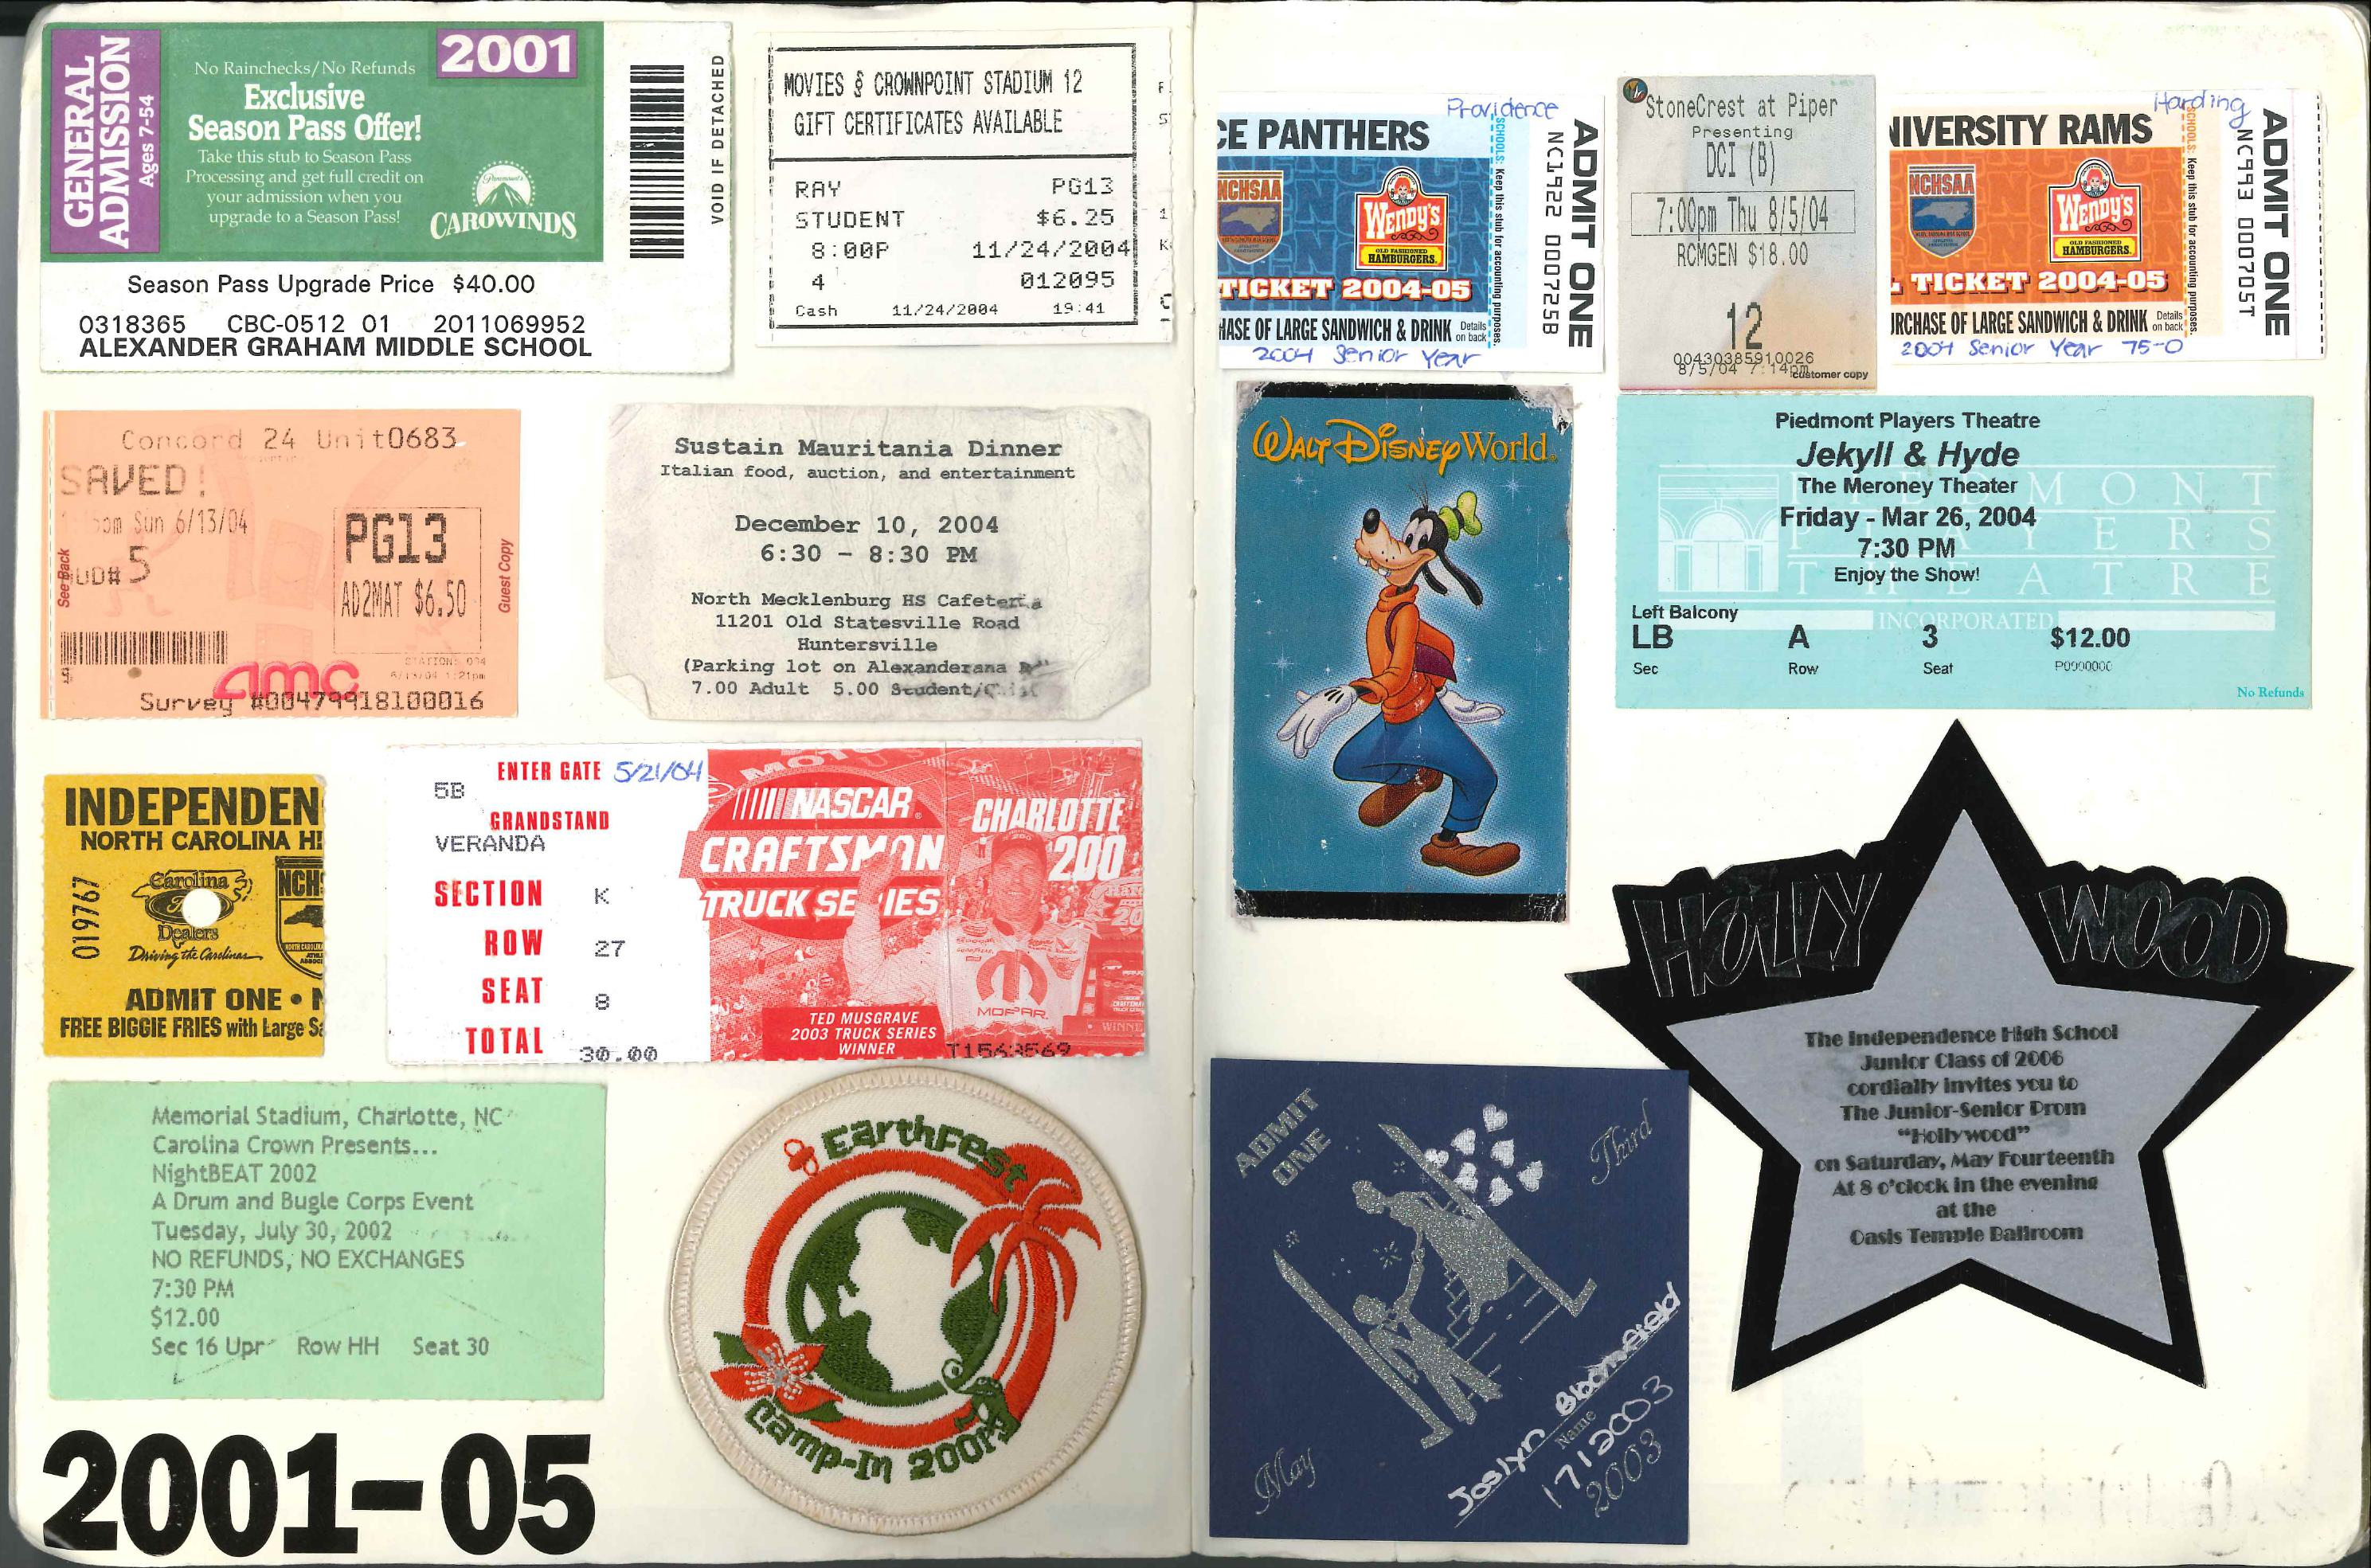article: (655, 1058, 1137, 1553)
stub: (1612, 721, 2347, 1478), (389, 749, 1151, 1073), (43, 24, 735, 373), (1617, 397, 2315, 727), (1212, 1058, 1681, 1539), (1228, 384, 1575, 925), (51, 1084, 602, 1401), (616, 408, 1156, 721), (45, 410, 519, 714), (765, 37, 1172, 343), (1892, 101, 2326, 362), (1210, 96, 1604, 373), (1620, 77, 1886, 392), (48, 772, 323, 1058)
